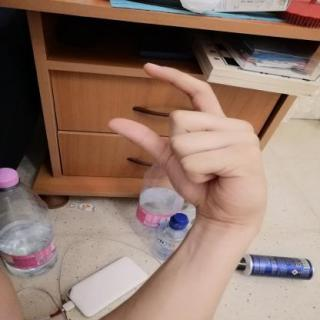DELL: (95, 55, 282, 233)
